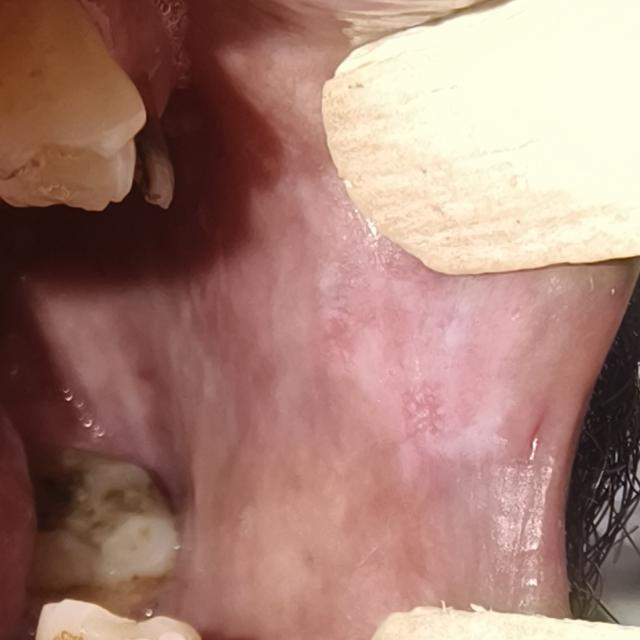leukoplakia-like-detection: (44, 161, 556, 558)
processing_area: (25, 0, 628, 639)
